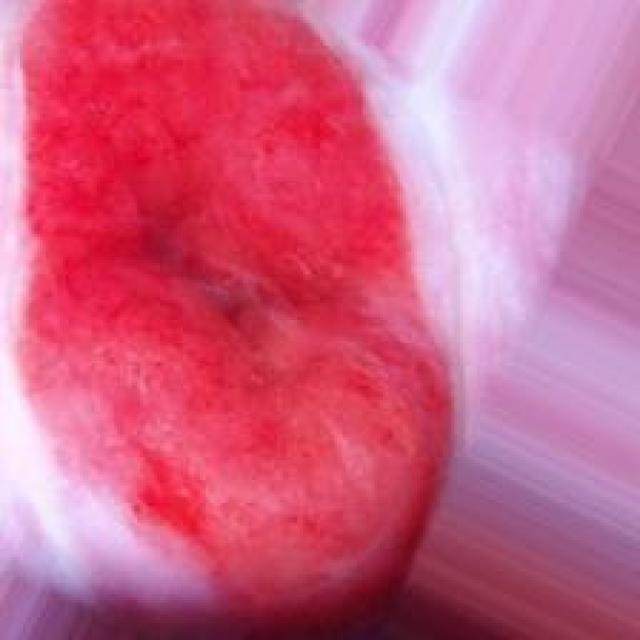type-1: (14, 0, 468, 611)
